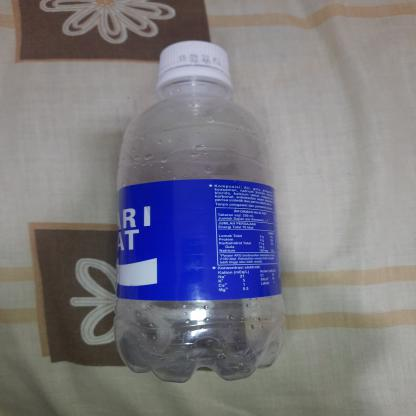bottle: (107, 40, 288, 387)
